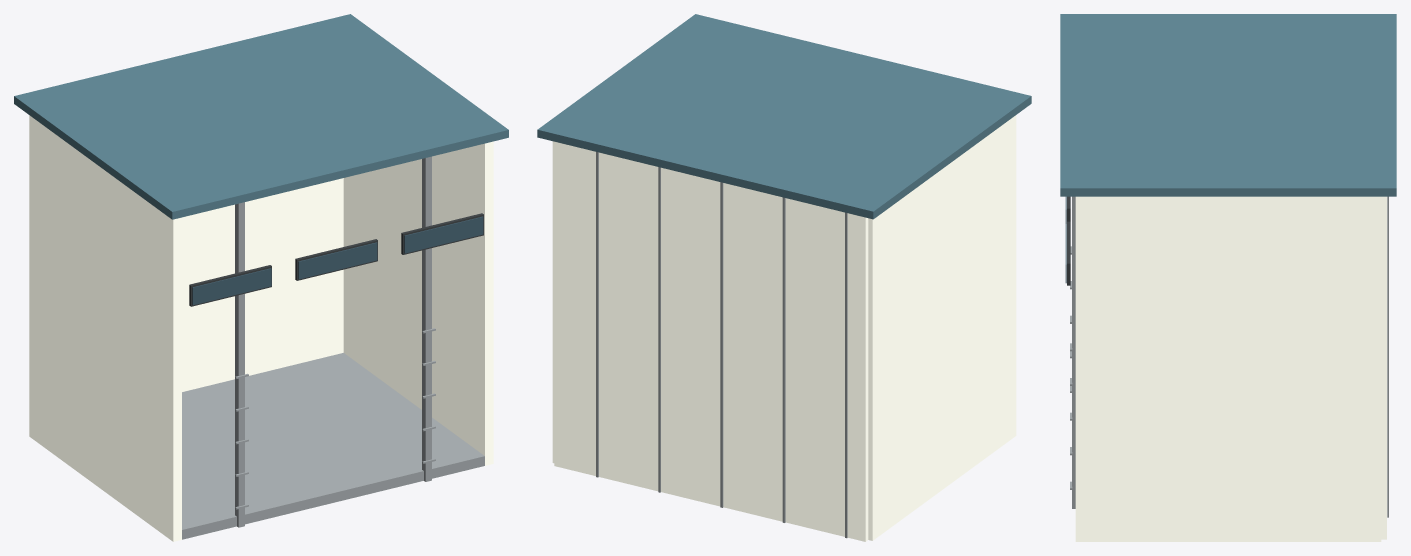
The model's file is endurance-and-gt-paddock-race-control-tower-9392e727__14900.glb.
The picture shows the model from 3 angles, left to right: view 1: azimuth 30°, elevation 25°; view 2: azimuth 150°, elevation 25°; view 3: azimuth 270°, elevation 25°; orthographic projection. The views are drawn at different scales.
Visible parts, largest first — view 1: race-control-tower; view 2: race-control-tower; view 3: race-control-tower.
Part boxes in pixels (x1,y1,x2,y2): race-control-tower: (14,14,508,541); race-control-tower: (537,14,1031,541); race-control-tower: (1060,14,1396,541).
Size of the model in its own units: 5.4 by 5.17 by 4.4.
